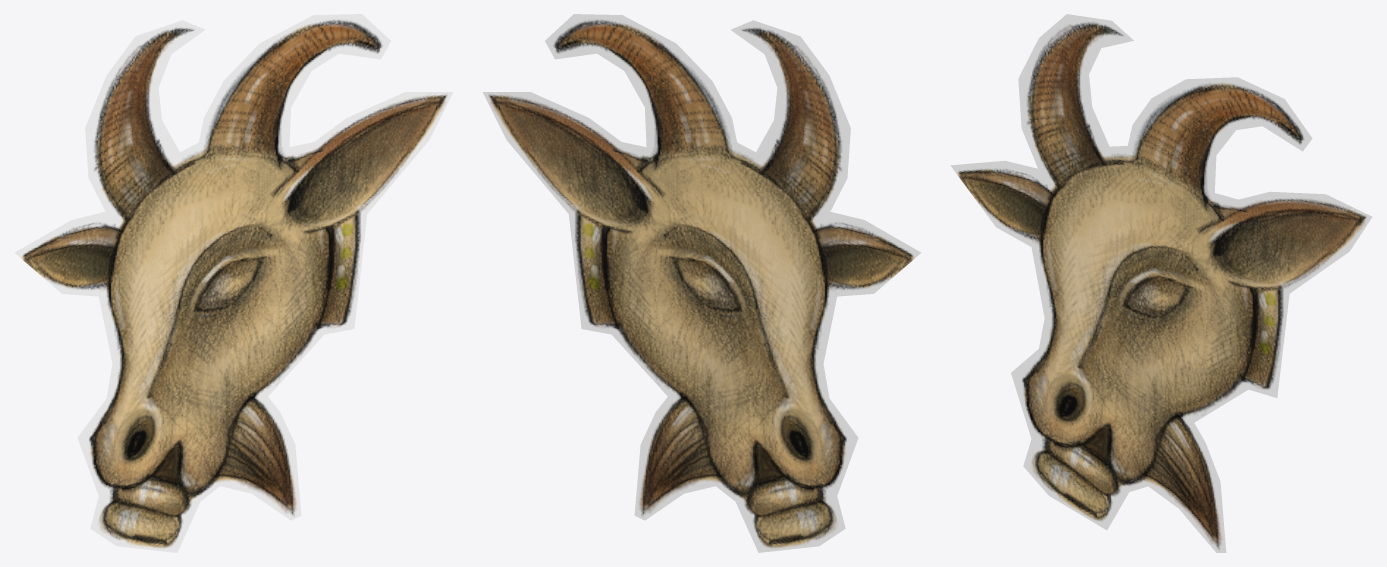
3 views of the same model, side by side, from view 1: azimuth 30°, elevation 25°; view 2: azimuth 150°, elevation 25°; view 3: azimuth 330°, elevation 25° (orthographic). The views are drawn at different scales.
Visible parts, largest first — view 1: Plane; view 2: Plane; view 3: Plane.
Boxes of the visible parts, x1=… form: Plane: x1=14, y1=14, x2=453, y2=552; Plane: x1=482, y1=14, x2=921, y2=552; Plane: x1=950, y1=14, x2=1372, y2=552.
Bounding box in the file's own units: 2.99 × 3.46 × 0.
1 material, 1 textured.
